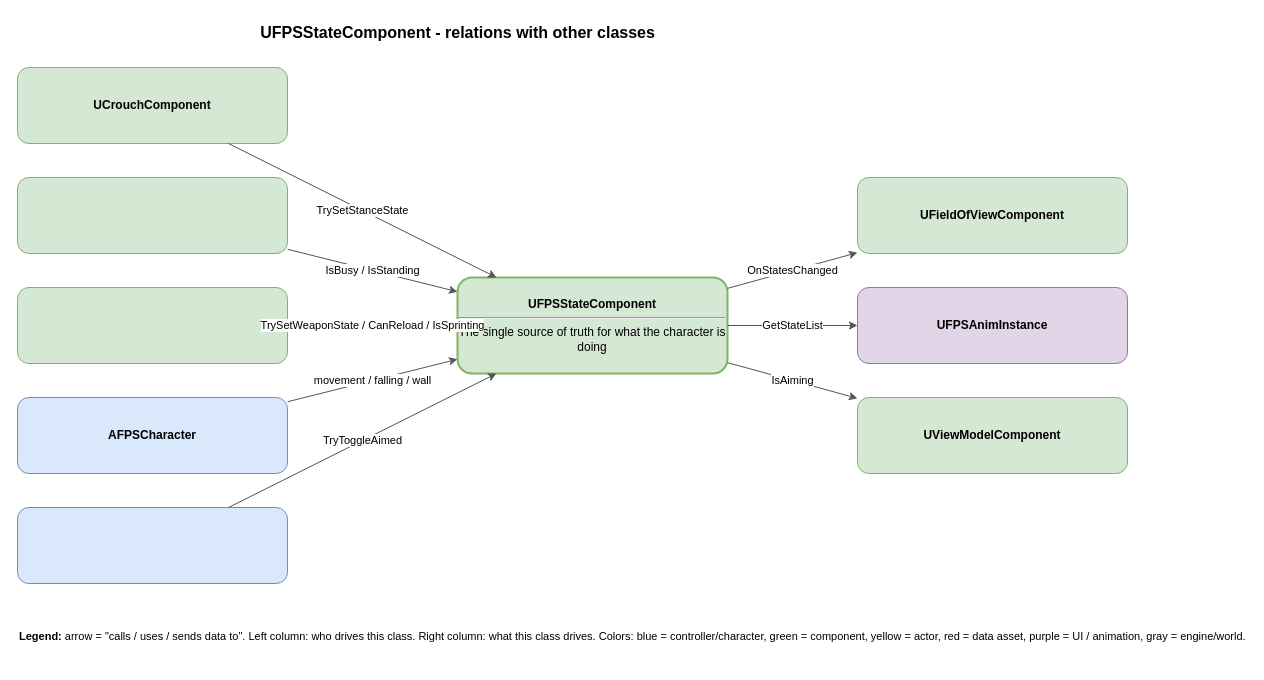
This 1264x680 diagram has some shape labels left out. The shapes that lost their labels are listed below. From the top down, each one's centre as x and y in pixels, then its label:
At pixel 152 215: "USprintComponent".
At pixel 152 325: "UWeaponManager".
At pixel 152 545: "AFPSPlayerController".
